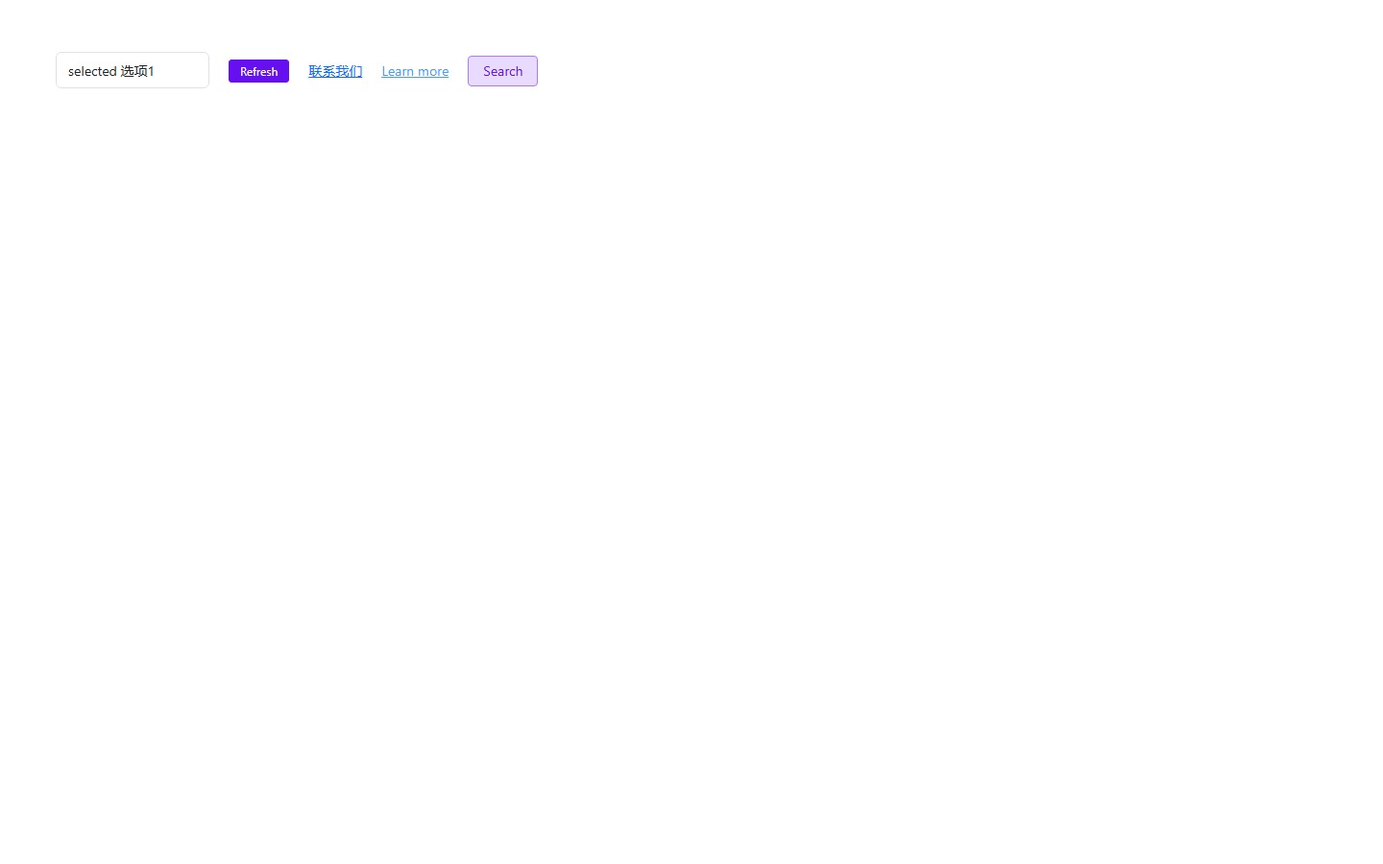button: (468, 55, 538, 86), (229, 59, 289, 82)
link: (381, 61, 449, 79), (308, 61, 362, 79)
select: (56, 52, 209, 88)
